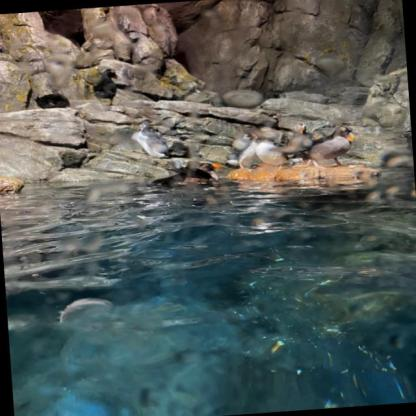puffin: (304, 125, 356, 168), (269, 122, 319, 163), (131, 118, 172, 160), (81, 66, 121, 106), (224, 136, 268, 170), (254, 136, 291, 168), (178, 158, 218, 184), (34, 92, 71, 110), (229, 132, 257, 153)
